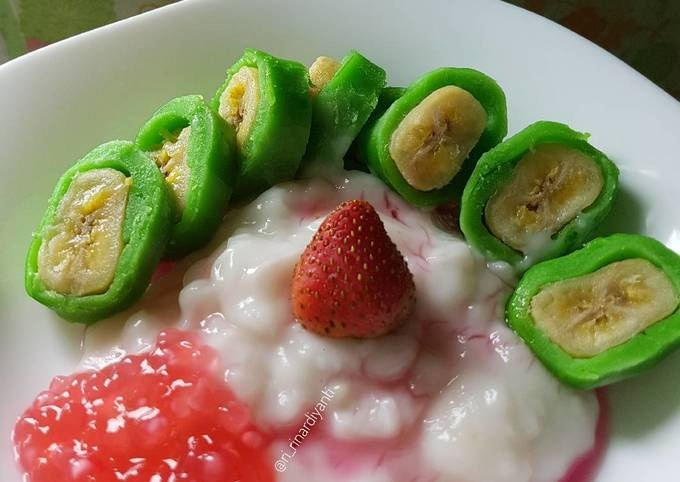pisang_ijo: (498, 239, 680, 385), (22, 145, 166, 315), (368, 56, 497, 213)
